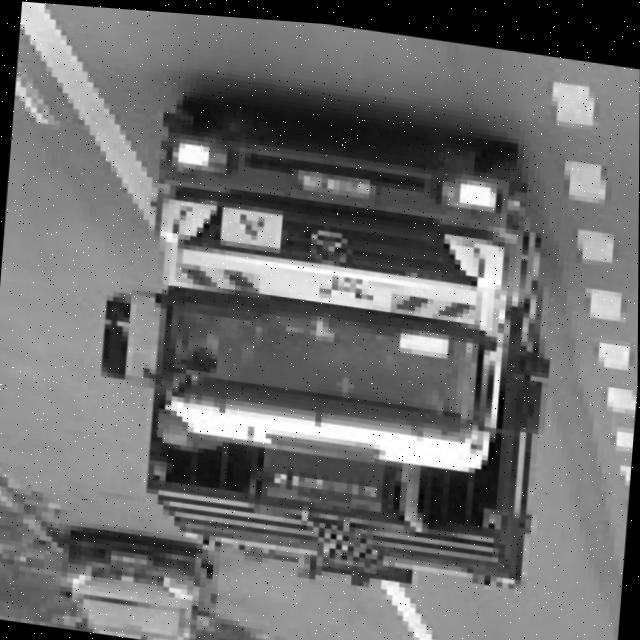truck: (102, 85, 570, 513)
